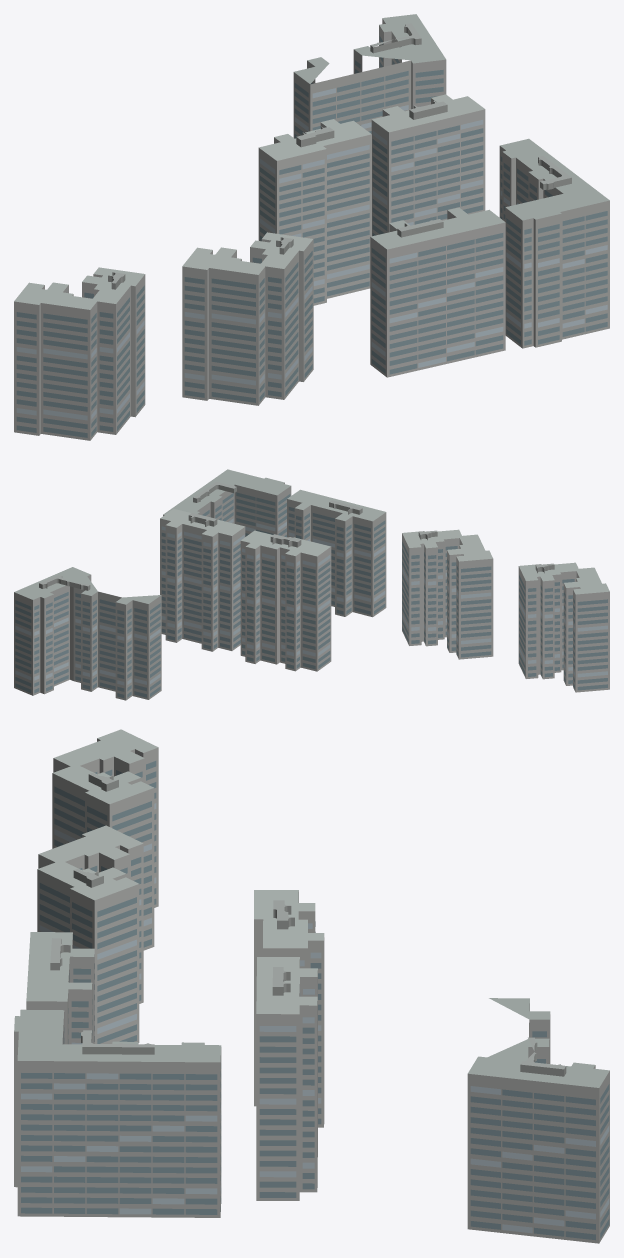
The model's file is apt-a10023897.glb.
3 renders of one model, top to bottom at view 1: azimuth 30°, elevation 25°; view 2: azimuth 150°, elevation 25°; view 3: azimuth 270°, elevation 25°, orthographic. The views are drawn at different scales.
Visible parts, largest first — view 1: apt-a10023897; view 2: apt-a10023897; view 3: apt-a10023897.
Boxes of the visible parts, x1,y1,x2,y2 form: apt-a10023897: (14, 14, 609, 440); apt-a10023897: (14, 469, 609, 700); apt-a10023897: (14, 729, 609, 1243).
Size of the model in its own units: 210 by 54 by 149.
